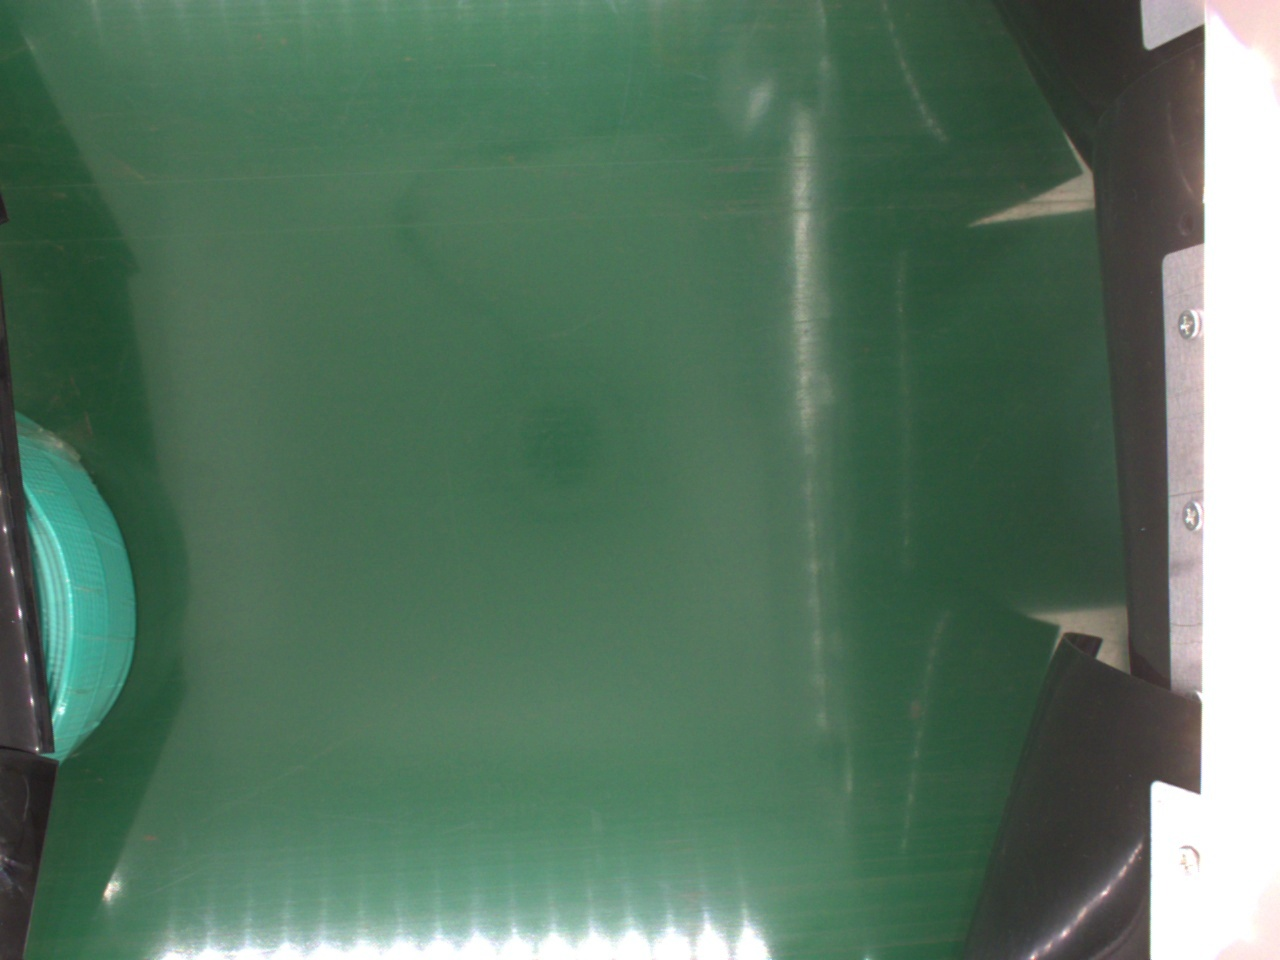green: (11, 411, 137, 756)
